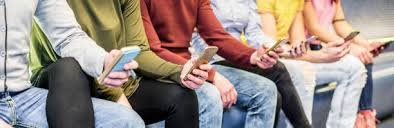Mobile-phone: (99, 45, 142, 89), (183, 45, 219, 85), (262, 37, 285, 62), (369, 37, 393, 56), (342, 29, 361, 47)
